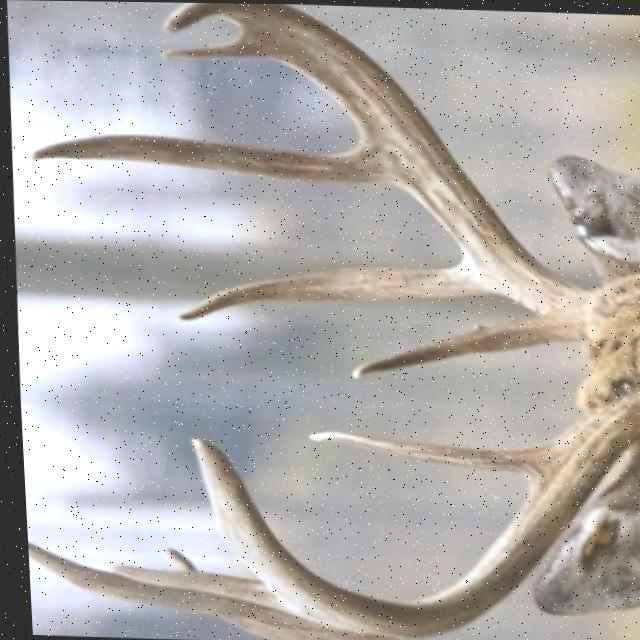E1: (154, 33, 268, 59)
L-F: (185, 379, 640, 639)
L-G1: (301, 430, 535, 475)
R-G1: (346, 313, 577, 379)
R-G2: (173, 258, 491, 321)
R-G3: (27, 134, 389, 183)
